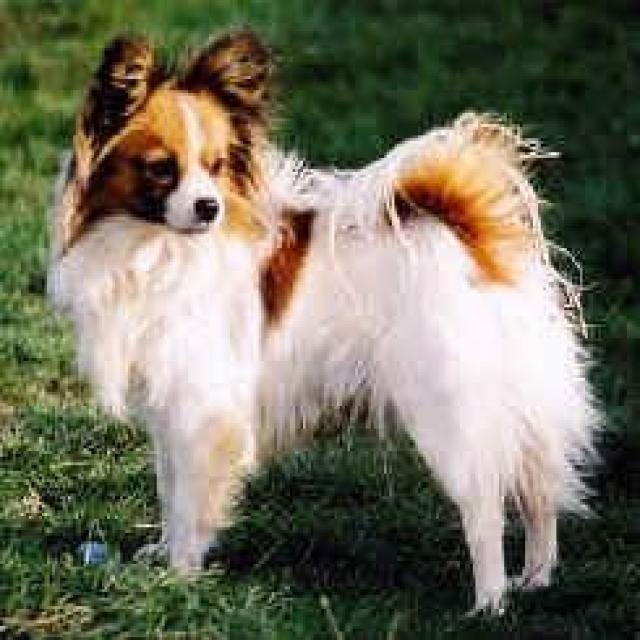papillon: (34, 28, 609, 623)
